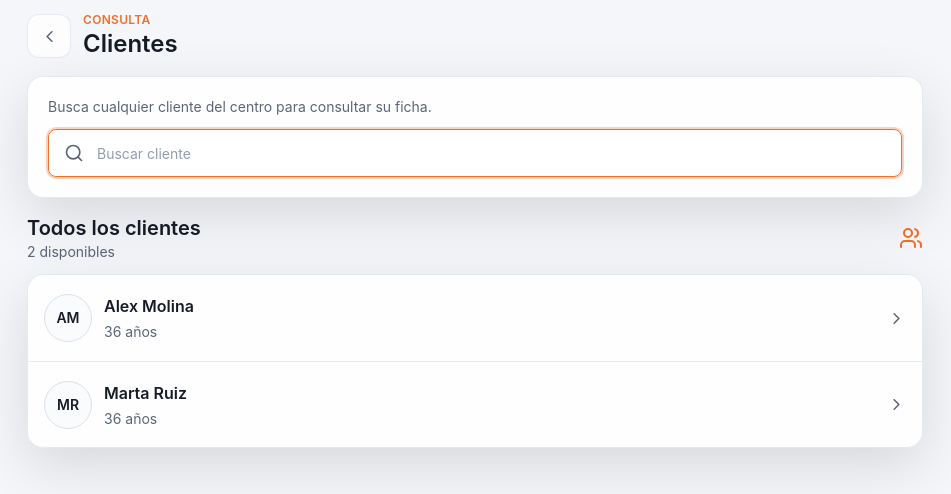
Scenario: TrainerClientsPage › shows an empty state when no client matches the search
The image size is (951, 494).
Type "Nadie" into the search field with placeholder "Buscar cliente". click: (475, 153)
box: [48,129,902,177]
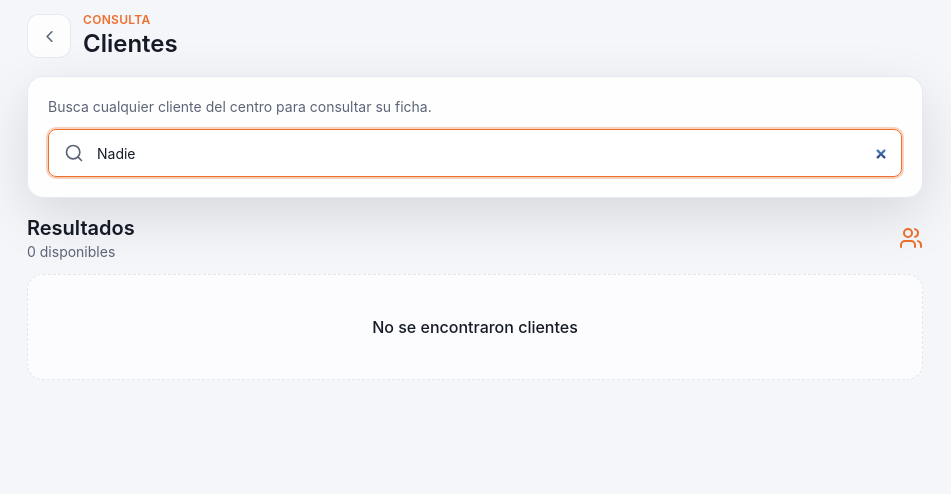
Now the text "No se encontraron clientes" is shown, box [372,317,578,337]
